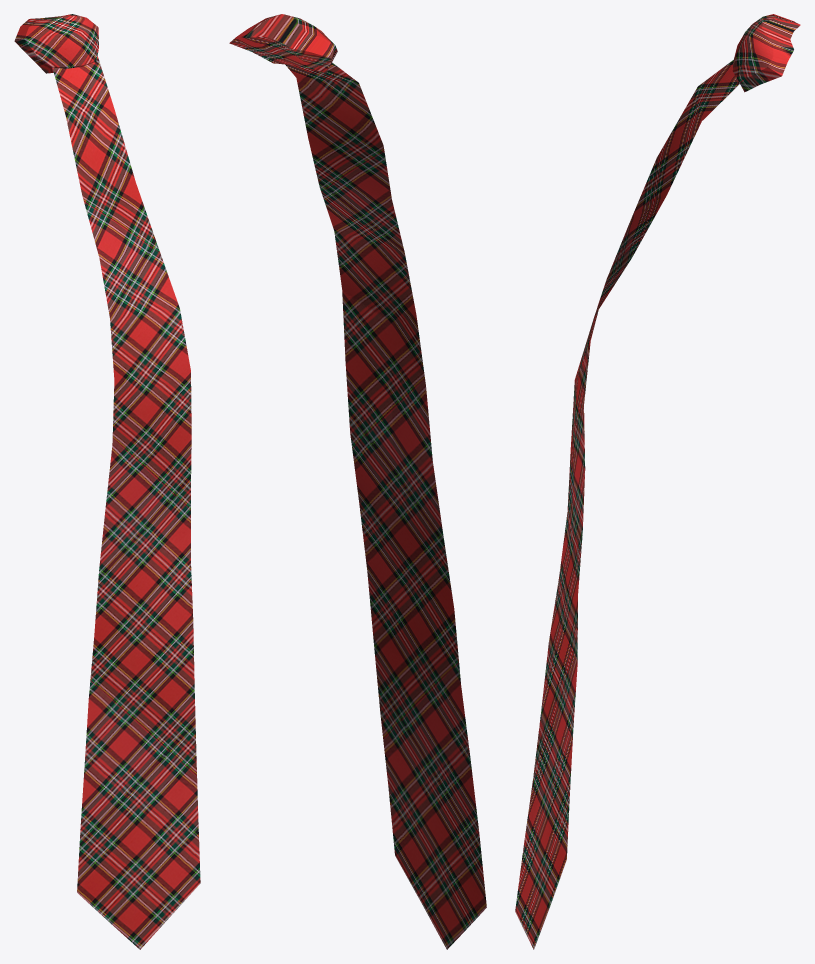
The model's file is Pose-6_Tie-1.fbx.
3 renders of one model, left to right at view 1: azimuth 30°, elevation 25°; view 2: azimuth 150°, elevation 25°; view 3: azimuth 270°, elevation 25°, orthographic. The views are drawn at different scales.
Visible parts, largest first — view 1: Pose-6_Tie-1; view 2: Pose-6_Tie-1; view 3: Pose-6_Tie-1.
Boxes of the visible parts, x1,y1,x2,y2 form: Pose-6_Tie-1: (14, 14, 200, 949); Pose-6_Tie-1: (229, 14, 486, 949); Pose-6_Tie-1: (515, 14, 800, 949).
Size of the model in its own units: 7.64 by 52.43 by 14.42.
